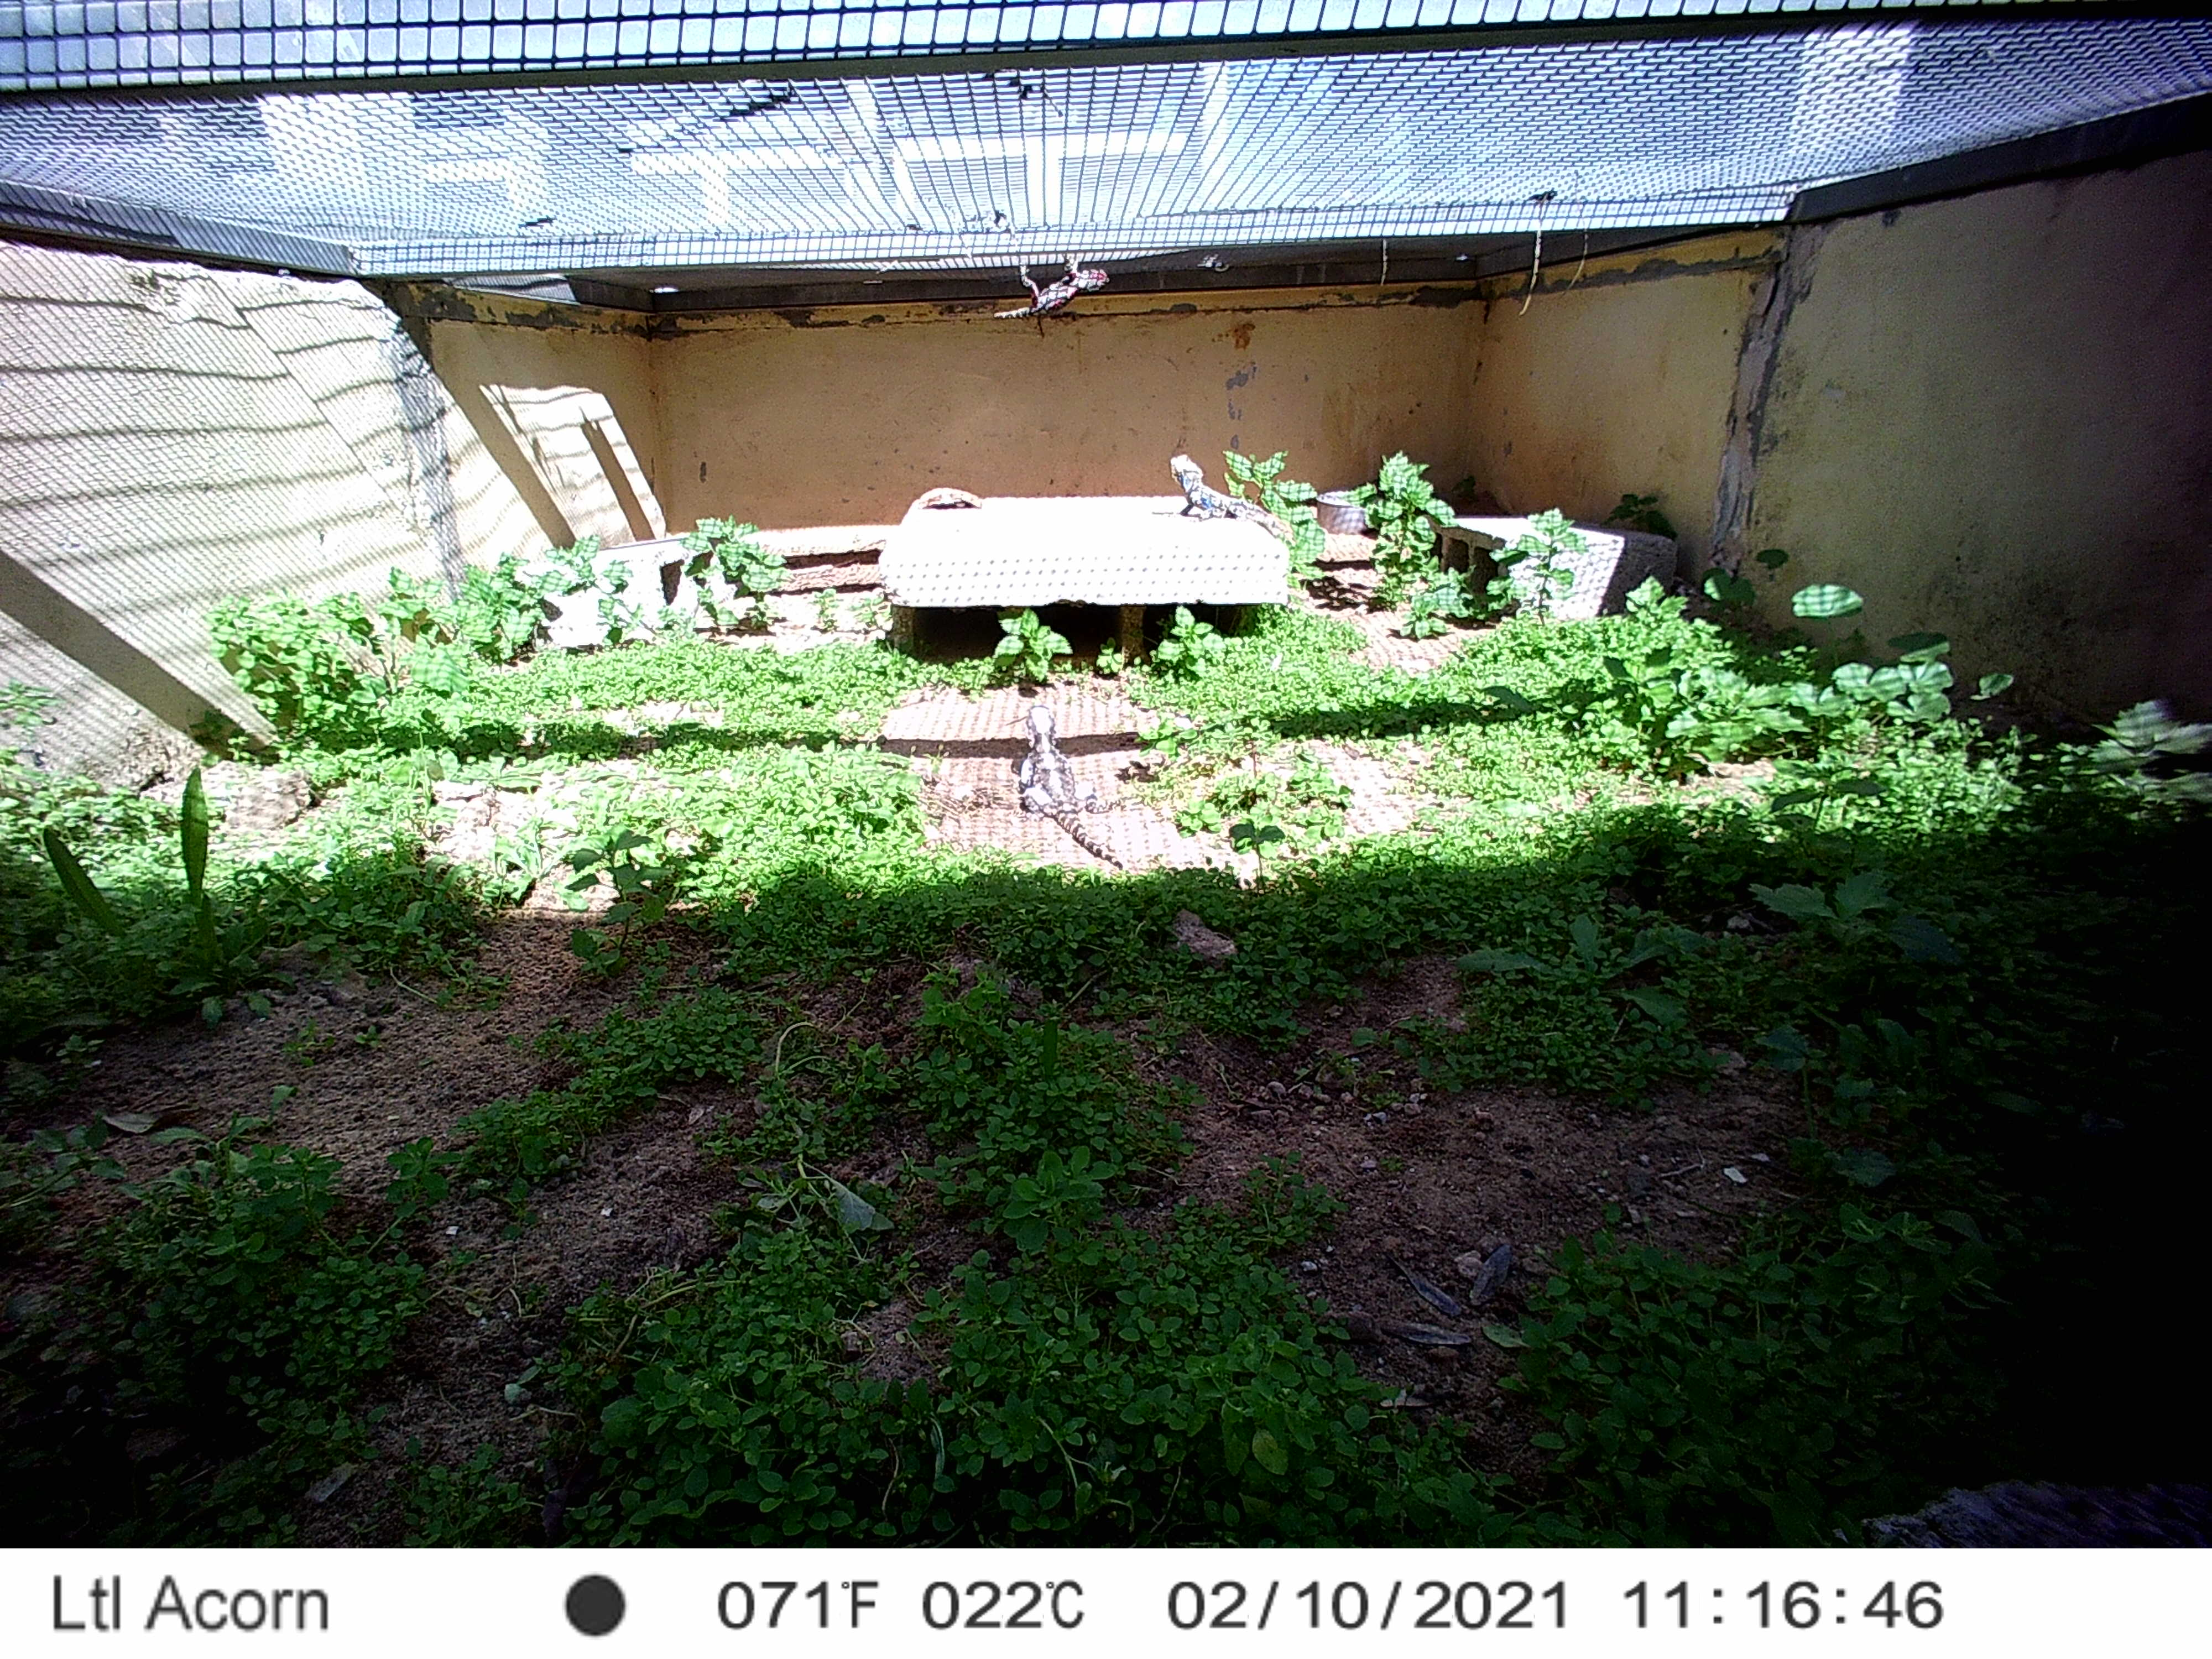lizard: (1014, 704, 1136, 871), (1163, 451, 1296, 540), (979, 254, 1116, 328)
